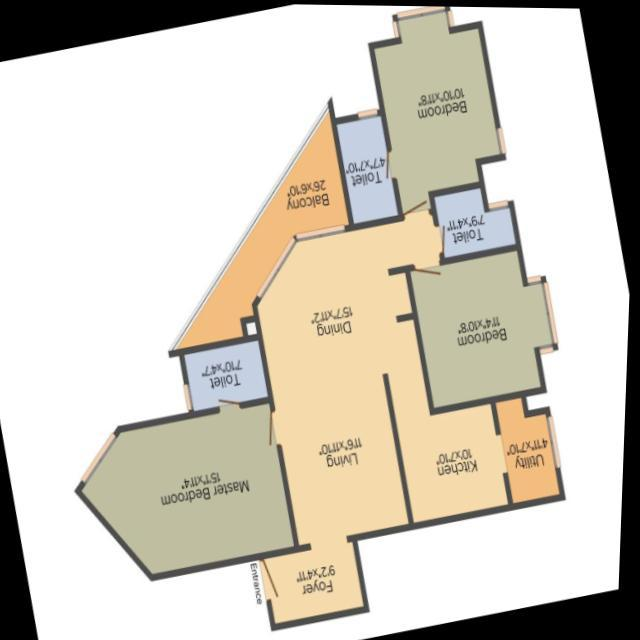Bedroom: (405, 248, 545, 413), (369, 18, 505, 175)
Bedroom with Toilet: (73, 331, 303, 581)
Dining: (268, 266, 389, 368)
Enterance-Foyer: (244, 536, 369, 617)
Kitchen: (393, 399, 514, 523)
Living: (272, 369, 412, 541)
Toilet: (332, 106, 404, 226), (178, 331, 275, 414), (429, 182, 523, 264)
Utility: (497, 402, 569, 506)
